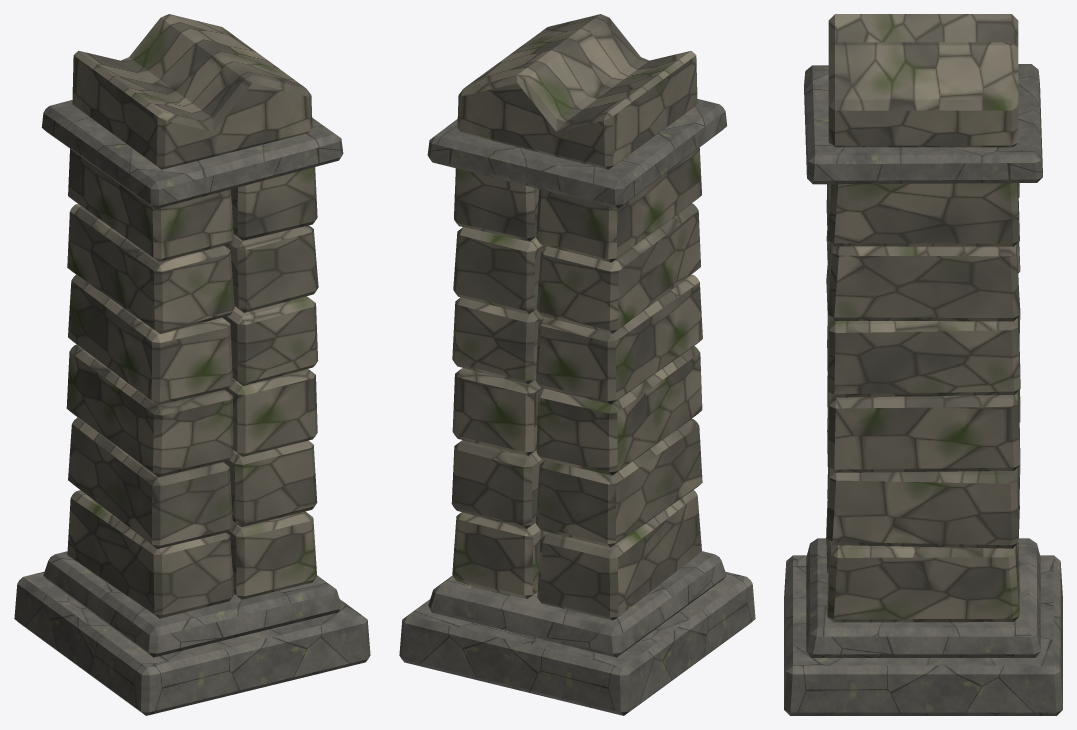
Rendered from RuinPillar.fbx.
3 views of the same model, side by side, from view 1: azimuth 30°, elevation 25°; view 2: azimuth 150°, elevation 25°; view 3: azimuth 270°, elevation 25° (orthographic). The views are drawn at different scales.
Visible parts, largest first — view 1: RuinPillar; view 2: RuinPillar; view 3: RuinPillar.
Boxes of the visible parts, x1,y1,x2,y2 form: RuinPillar: (14, 14, 370, 715); RuinPillar: (399, 14, 755, 715); RuinPillar: (784, 14, 1062, 715).
Size of the model in its own units: 165 by 406 by 165.
